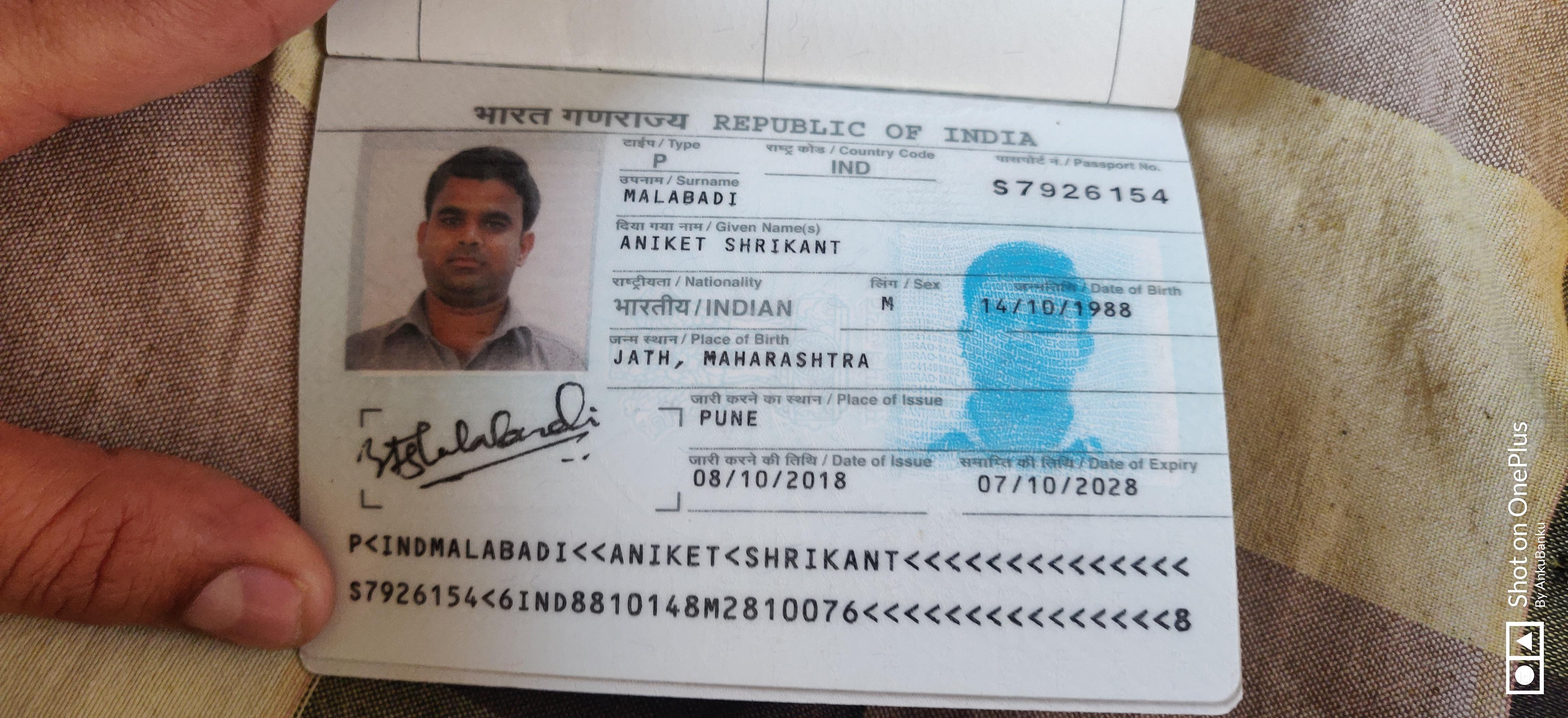DOB: (859, 444, 925, 522)
Surname: (1102, 282, 1166, 347)
country_code: (1183, 374, 1227, 401)
date_of_expiry: (463, 444, 535, 529)
date_of_issue: (480, 314, 553, 394)
details: (196, 153, 405, 545)
name: (995, 280, 1065, 391)
nationality: (869, 277, 930, 366)
passport_no: (1110, 450, 1195, 545)
photo: (750, 160, 1262, 278)
place_of_birth: (746, 277, 817, 407)
place_of_issue: (611, 316, 688, 350)
sex: (866, 397, 934, 414)
sign: (500, 157, 716, 278)
type: (1190, 294, 1236, 312)
